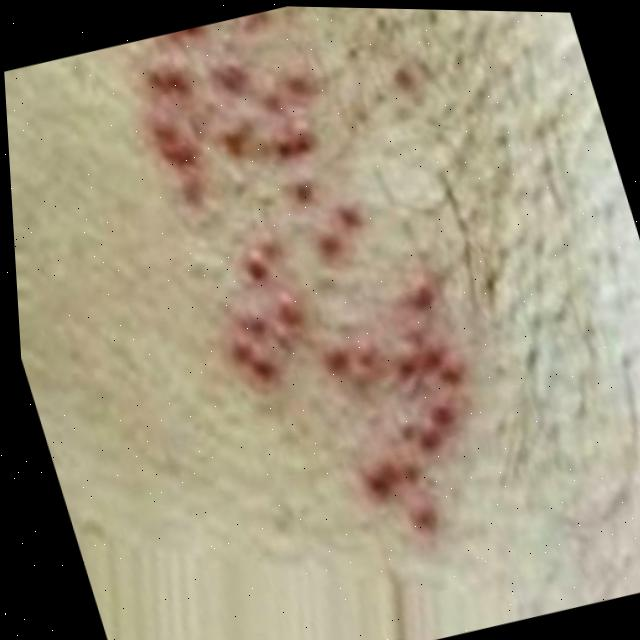Shingles: (118, 3, 526, 566)
